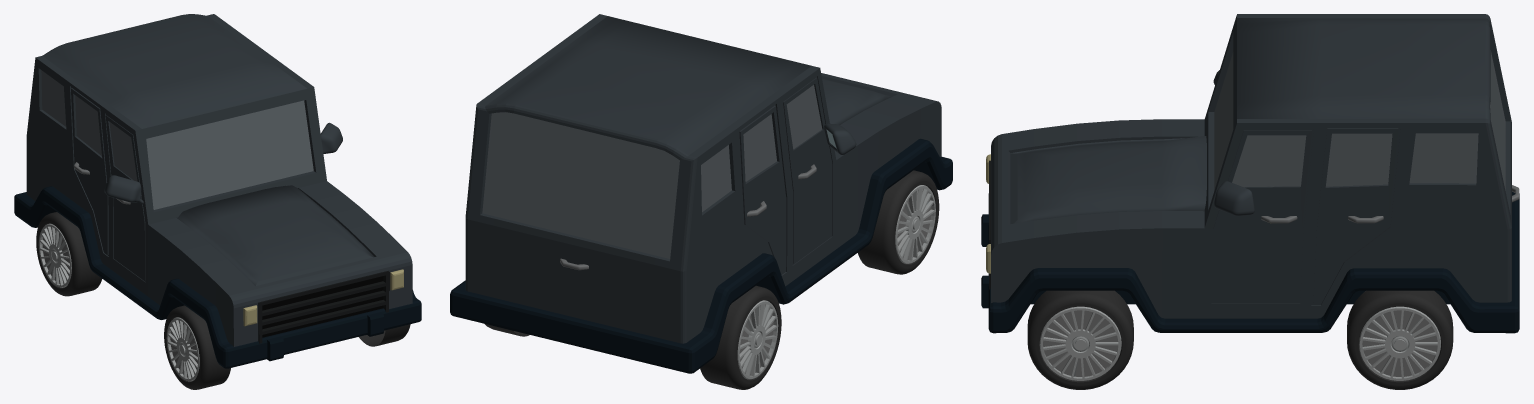
The model's file is GWag.gltf.
3 renders of one model, left to right at view 1: azimuth 30°, elevation 25°; view 2: azimuth 150°, elevation 25°; view 3: azimuth 270°, elevation 25°, orthographic. The views are drawn at different scales.
Parts seen in each view (by area): view 1: Cube.010; view 2: Cube.010; view 3: Cube.010.
Part boxes in pixels (bbox=[...]): Cube.010: bbox=[14, 14, 421, 389]; Cube.010: bbox=[450, 14, 952, 389]; Cube.010: bbox=[981, 14, 1519, 389].
Bounding box in the file's own units: 2.99 × 2.61 × 4.74.
1 material, 1 textured.
